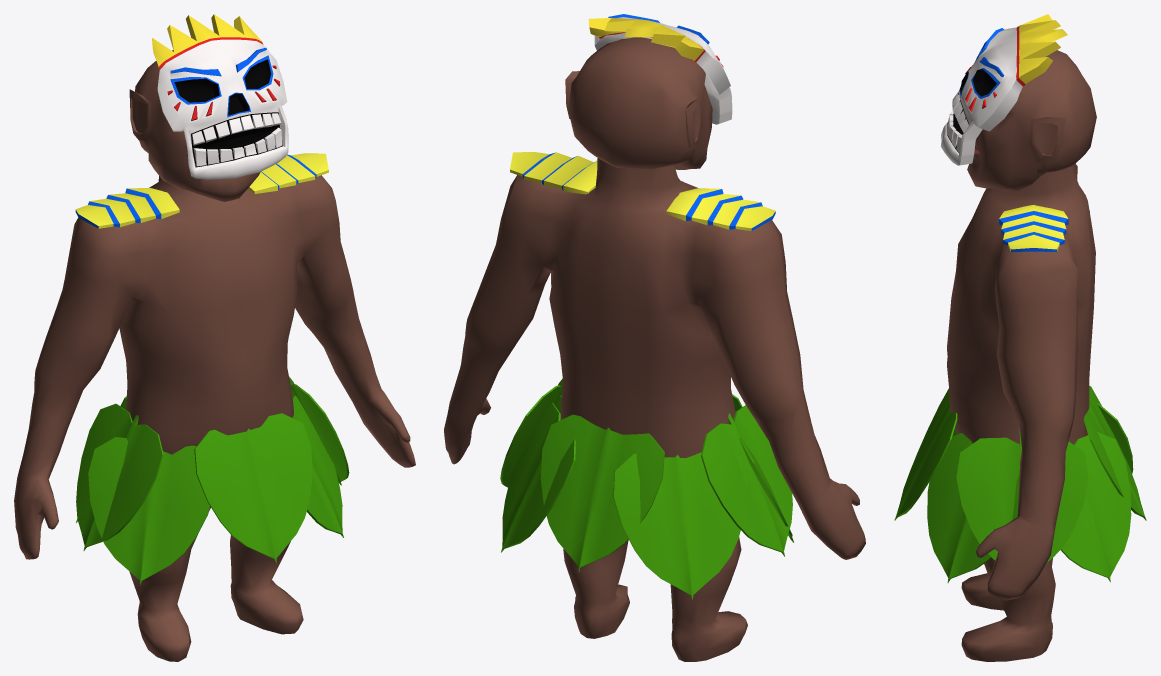
Rendered from locals_max_00.fbx.
3 renders of one model, left to right at view 1: azimuth 30°, elevation 25°; view 2: azimuth 150°, elevation 25°; view 3: azimuth 270°, elevation 25°, orthographic. The views are drawn at different scales.
Parts seen in each view (by area): view 1: dark; view 2: dark; view 3: dark.
Boxes of the visible parts, left/top/right/bottom form: dark: left=14, top=14, right=415, bottom=661; dark: left=444, top=14, right=865, bottom=661; dark: left=894, top=14, right=1146, bottom=661.
Size of the model in its own units: 483 by 719 by 274.
